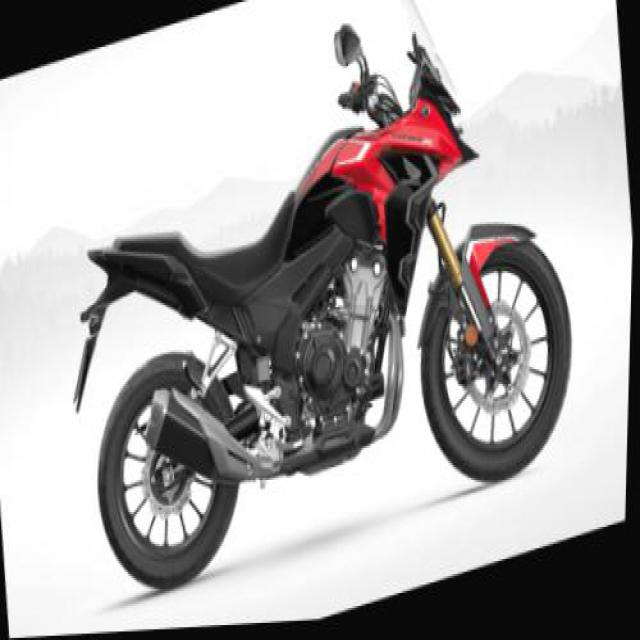CB500X: (57, 0, 596, 621)
